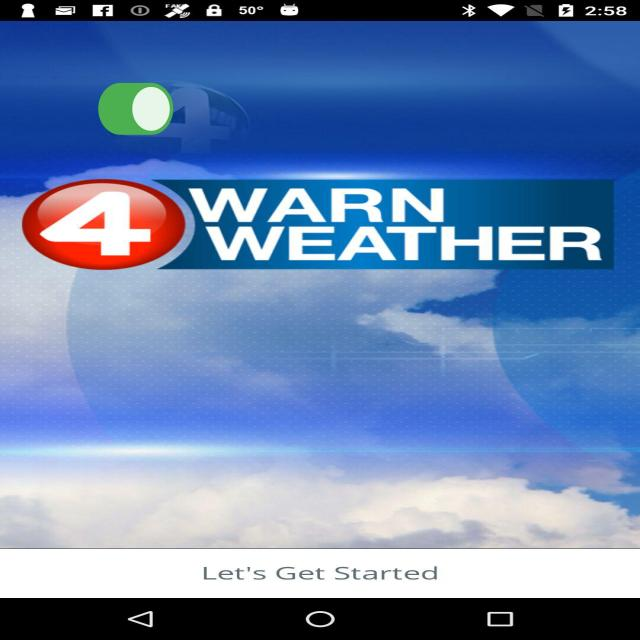social proof: (95, 63, 176, 159)
